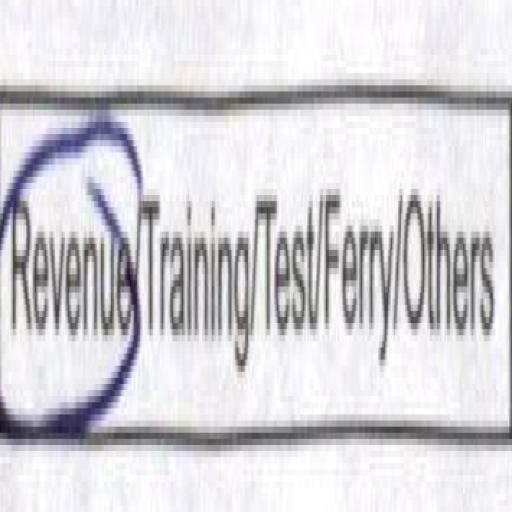check: (0, 55, 140, 463)
